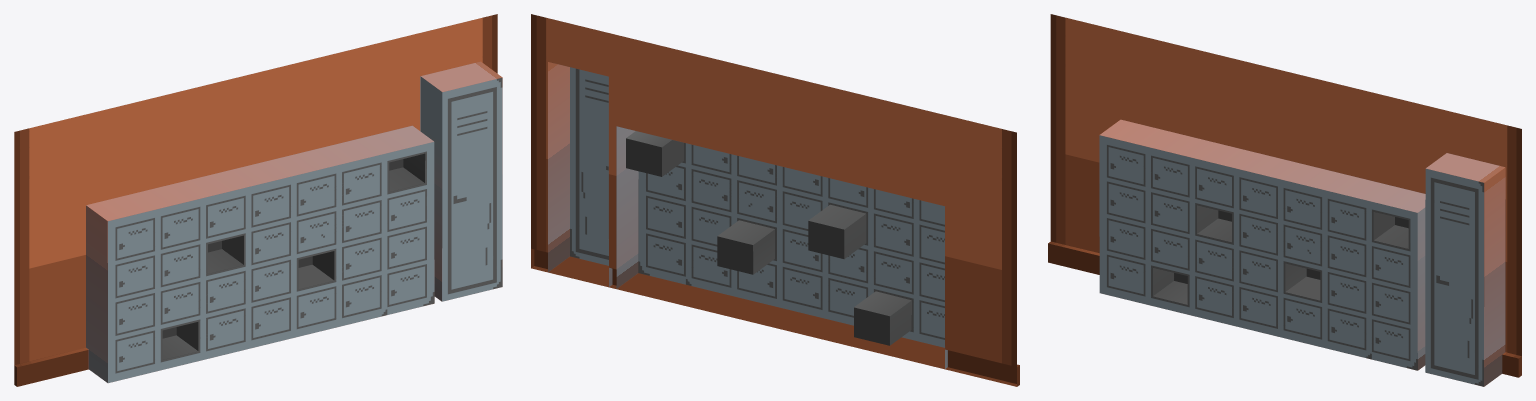
The model's file is wall-locker.fbx.
3 views of the same model, side by side, from view 1: azimuth 30°, elevation 25°; view 2: azimuth 150°, elevation 25°; view 3: azimuth 330°, elevation 25° (orthographic). The views are drawn at different scales.
Visible parts, largest first — view 1: Plane; view 2: Plane; view 3: Plane.
Part boxes in pixels (<box>): Plane: <box>14,14,502,386</box>; Plane: <box>531,14,1019,386</box>; Plane: <box>1048,14,1521,386</box>.
Size of the model in its own units: 1536 by 768 by 120.
Materials: 1 (1 with a texture image).
